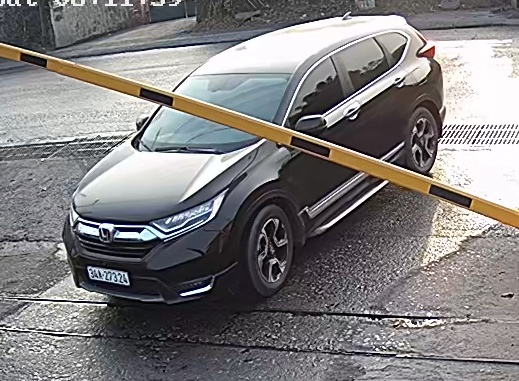vehicle plate: (83, 263, 133, 287)
